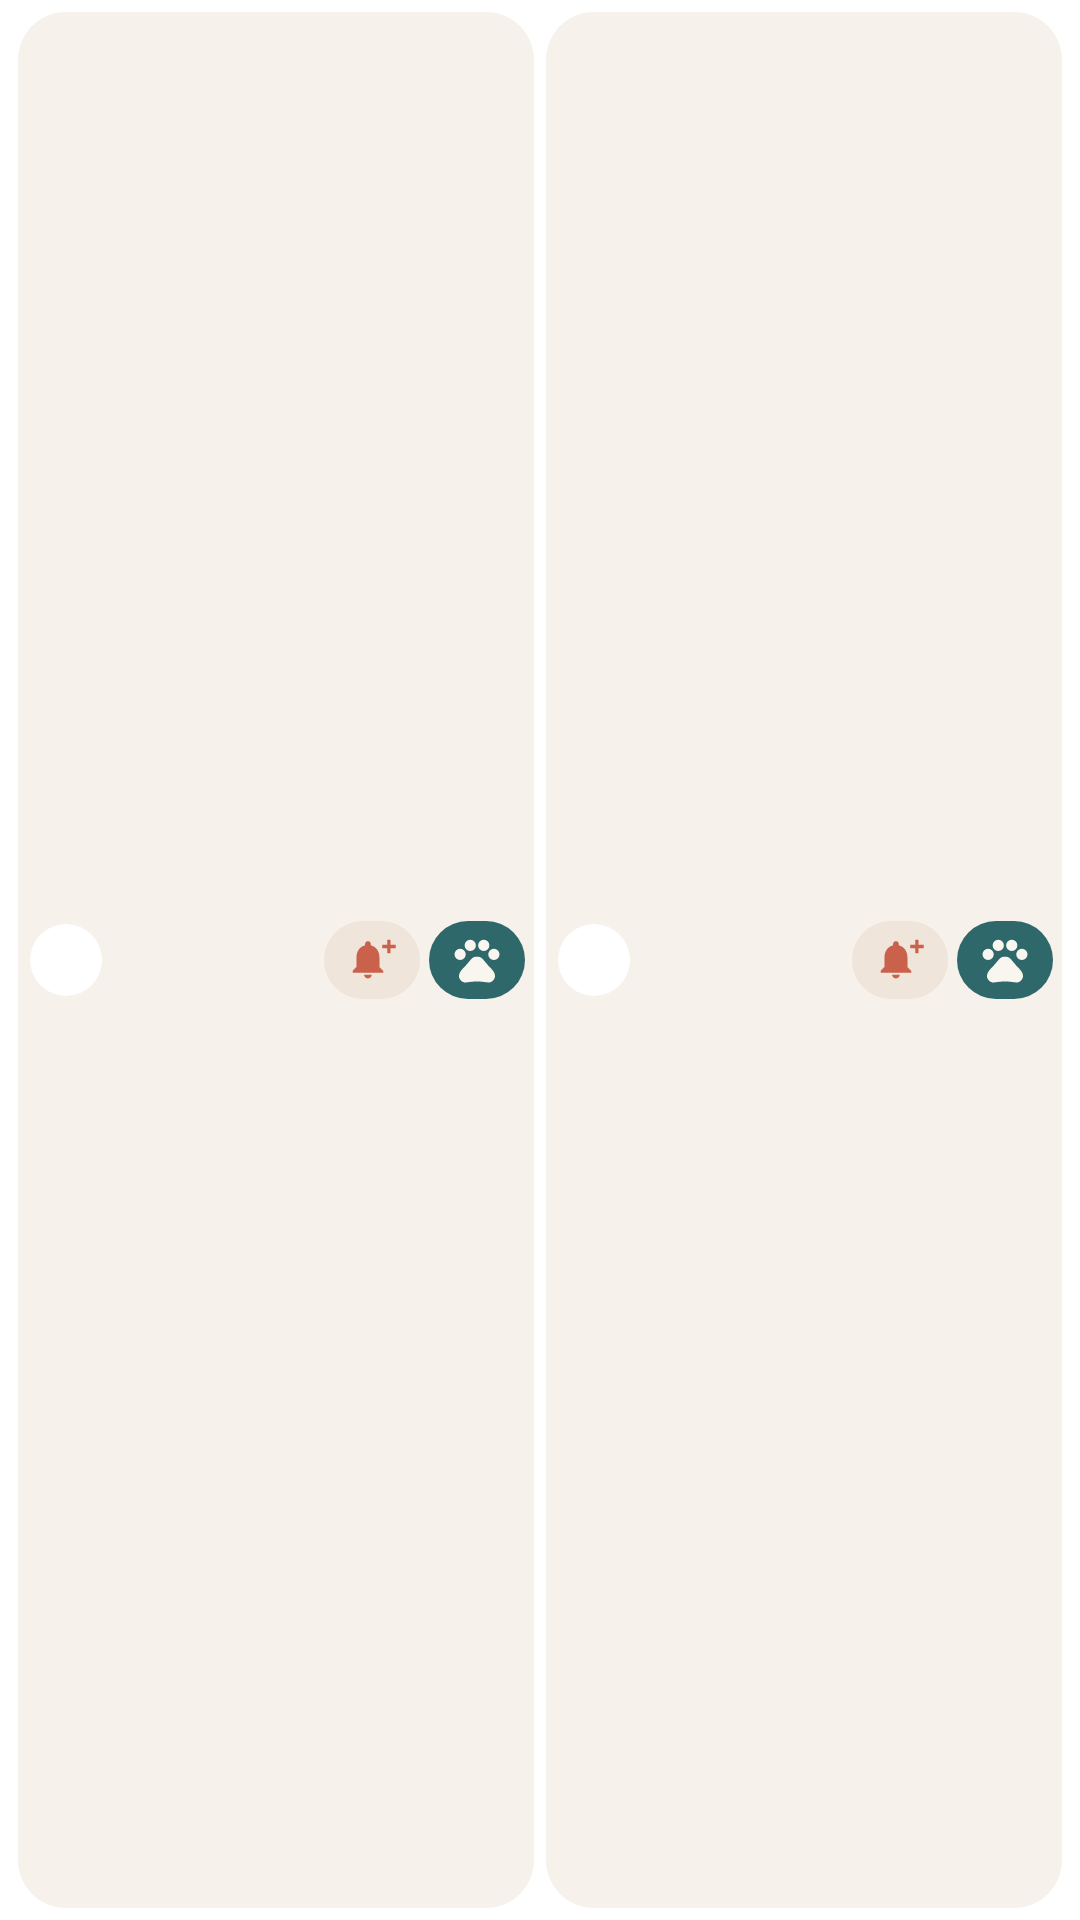

Icons on this 1080px x 1920px Android screen, each with its box as {"left": x1, "top": y1, "right": x2, "bottom": y2}:
dog walks widget paw: {"left": 454, "top": 939, "right": 500, "bottom": 983}, {"left": 982, "top": 939, "right": 1028, "bottom": 983}
